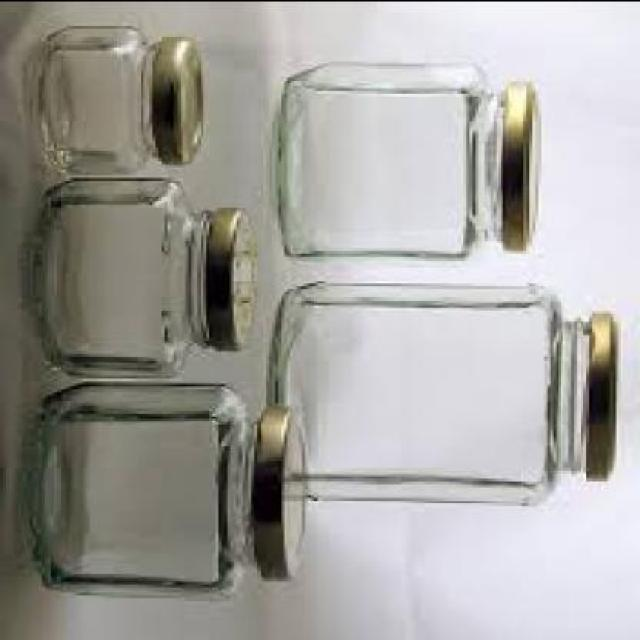GLASS: (278, 285, 592, 507), (35, 388, 260, 597), (284, 65, 505, 261), (39, 179, 218, 379), (38, 24, 158, 174)
METAL: (254, 407, 308, 581), (206, 212, 263, 353), (158, 41, 210, 165), (504, 83, 538, 254), (592, 315, 622, 482)
